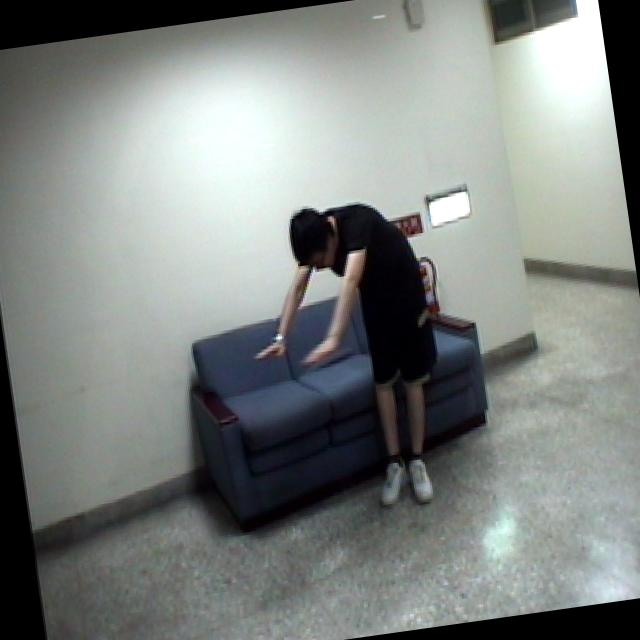bend: (229, 179, 472, 534)
